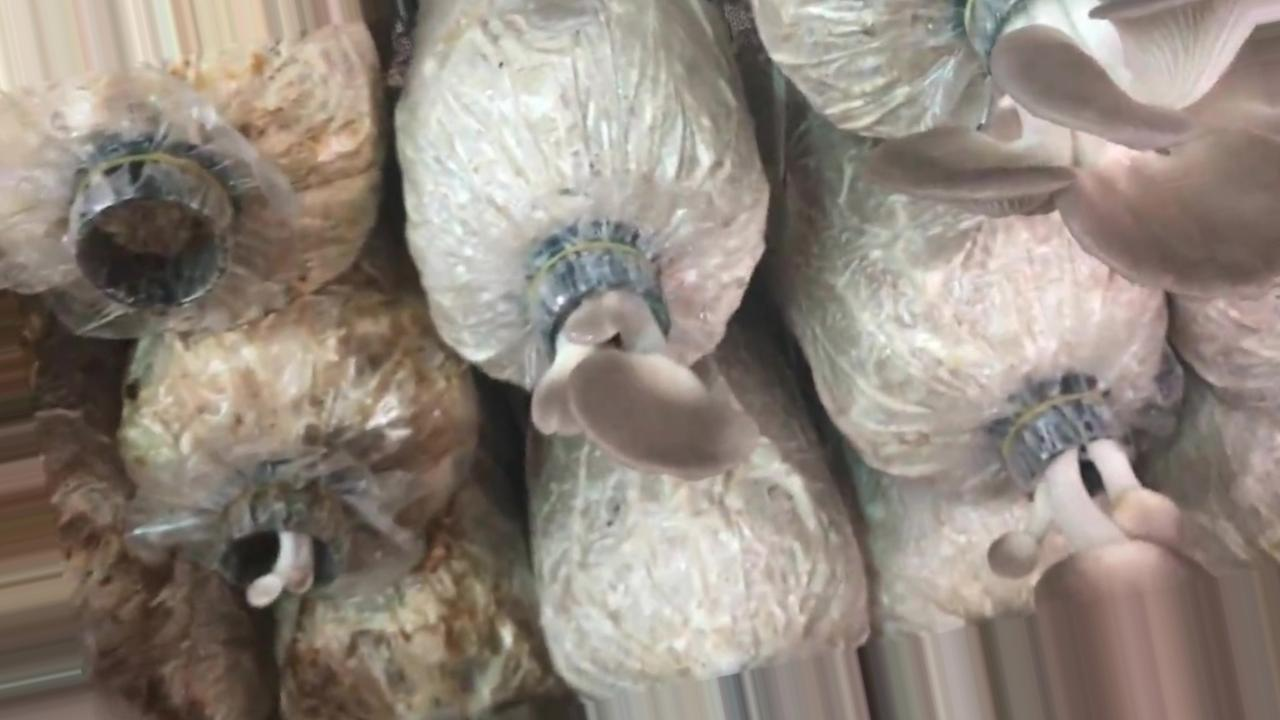nam: (864, 1, 1280, 300), (985, 399, 1241, 720), (530, 235, 761, 482), (210, 488, 348, 609)
